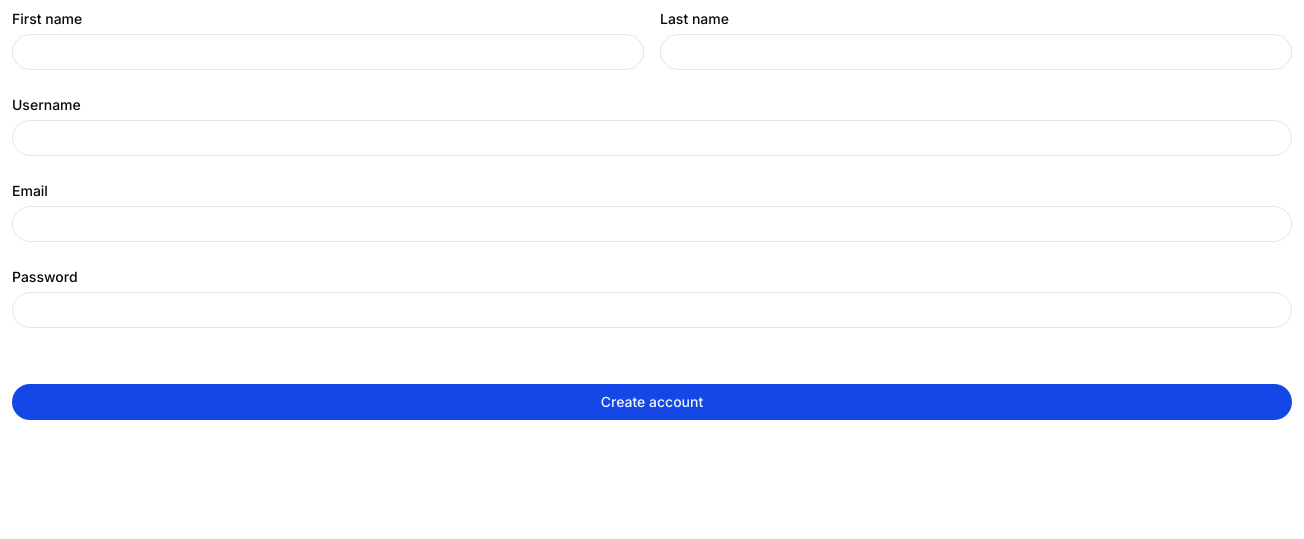
Test: RegisterForm › submits register with platform account fields only
In the field labelled "Username": {"x": 652, "y": 138} [12,120,1292,156], type "acme-user"
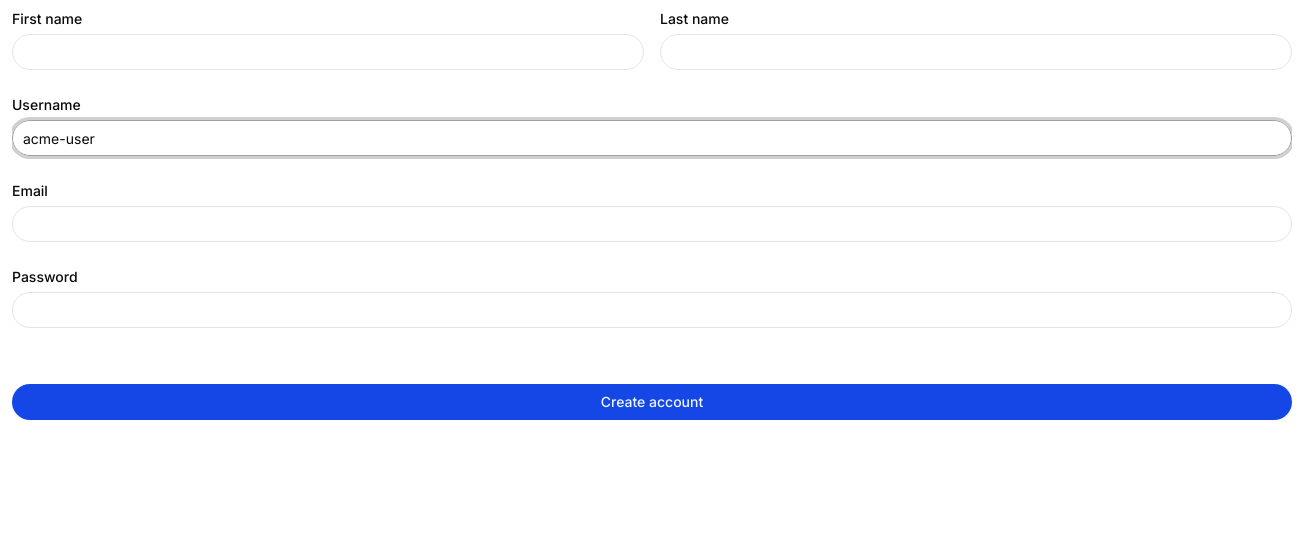
In the field labelled "Email": {"x": 652, "y": 224} [12,206,1292,242], type "user@norge360.com"
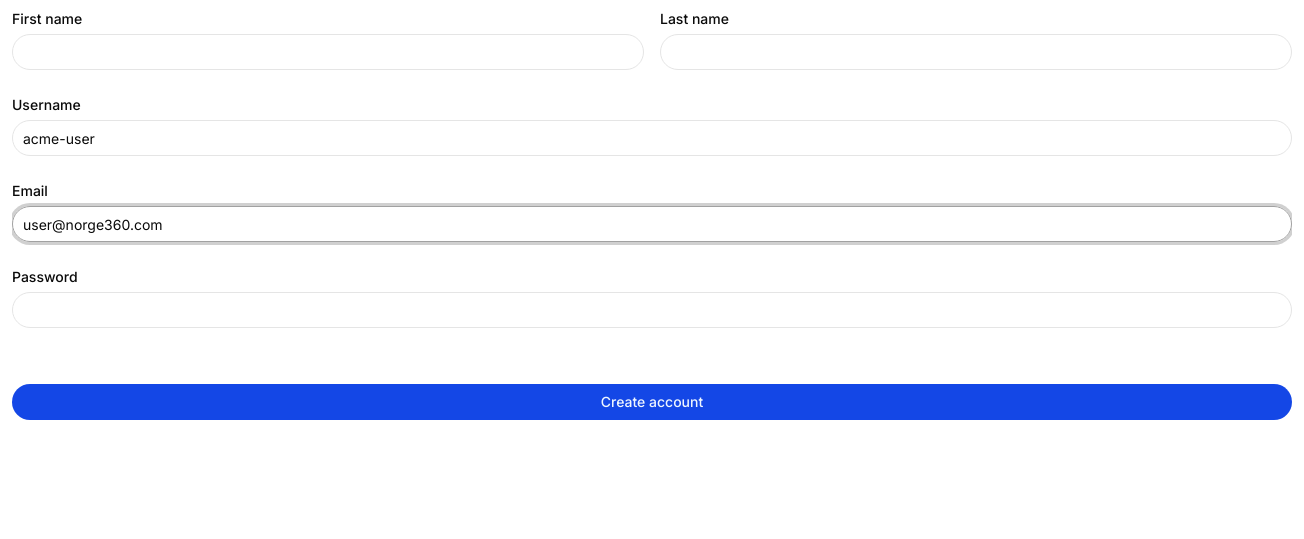
In the password field labelled "Password": {"x": 652, "y": 310} [12,292,1292,328], type "StrongPass123!"
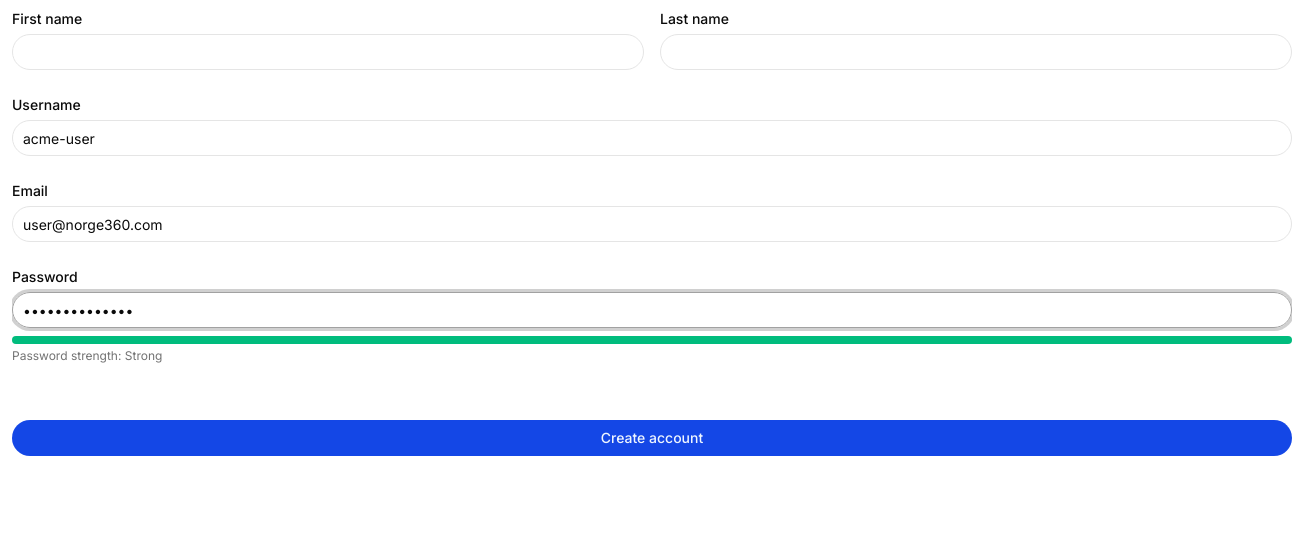
Click the button "Create account": {"x": 652, "y": 438} [12,420,1292,456]
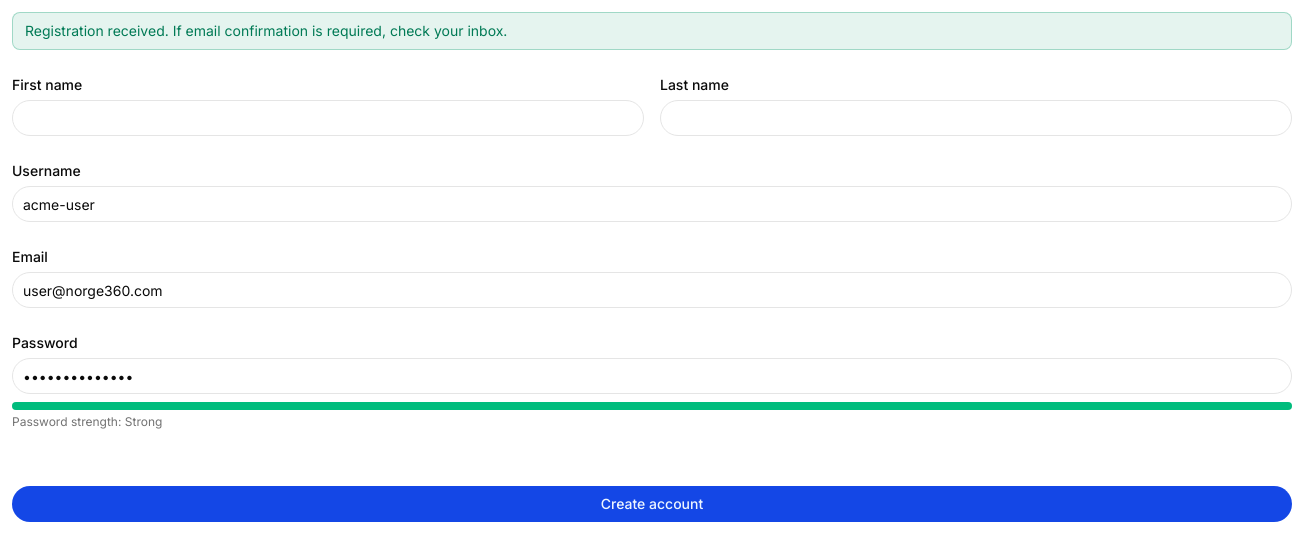
Check: the text "Registration received. If email confirmation is required, check your inbox." is shown, box [12,12,1292,50]
